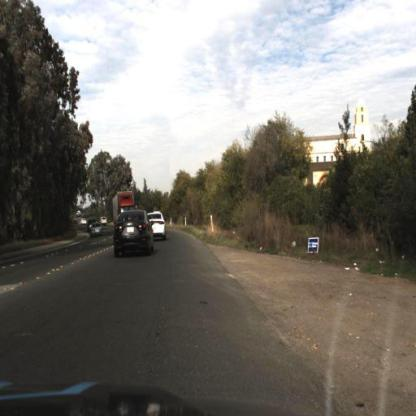car: (113, 208, 155, 258), (144, 204, 174, 247), (151, 210, 169, 241), (91, 223, 105, 239)
